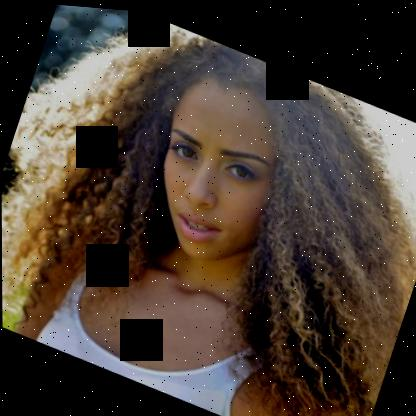Female: (136, 59, 303, 276)
